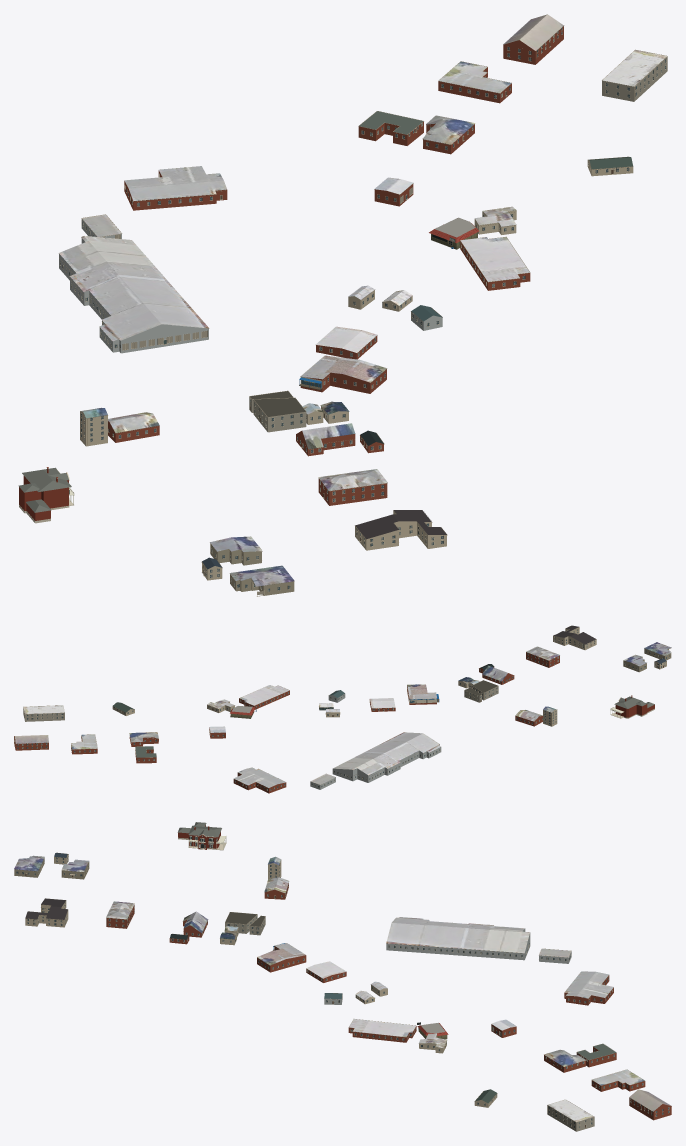
3 renders of one model, top to bottom at view 1: azimuth 30°, elevation 25°; view 2: azimuth 150°, elevation 25°; view 3: azimuth 270°, elevation 25°, orthographic. The views are drawn at different scales.
Parts seen in each view (by area): view 1: 0_-2_292661203_2, 0_-2_292661018_0, 0_-2_292661253_3, 0_-2_292661268_5, 0_-2_1150516045_73, 0_-2_625344694_31, 0_-2_292661202_1; view 2: 0_-2_292661203_2, 0_-2_292661018_0, 0_-2_292661253_3, 0_-2_292661268_5, 0_-2_1150516045_73, 0_-2_292661202_1, 0_-2_625344694_31; view 3: 0_-2_292661203_2, 0_-2_292661018_0, 0_-2_292661253_3, 0_-2_292661268_5, 0_-2_1150516045_73, 0_-2_292661202_1.
Part boxes in pixels (x1,y1,x2,y2): 0_-2_292661203_2: [59, 14, 666, 586]; 0_-2_292661018_0: [18, 26, 667, 596]; 0_-2_292661253_3: [19, 26, 563, 520]; 0_-2_292661268_5: [59, 195, 442, 387]; 0_-2_1150516045_73: [249, 56, 667, 432]; 0_-2_625344694_31: [210, 543, 294, 595]; 0_-2_292661202_1: [57, 217, 479, 504]; 0_-2_292661203_2: [15, 642, 671, 787]; 0_-2_292661018_0: [14, 625, 671, 790]; 0_-2_292661253_3: [14, 652, 654, 793]; 0_-2_292661268_5: [310, 693, 441, 789]; 0_-2_1150516045_73: [23, 686, 498, 721]; 0_-2_292661202_1: [230, 694, 623, 718]; 0_-2_625344694_31: [623, 648, 671, 672]; 0_-2_292661203_2: [14, 855, 671, 1121]; 0_-2_292661018_0: [14, 822, 669, 1128]; 0_-2_292661253_3: [106, 825, 671, 1120]; 0_-2_292661268_5: [324, 920, 571, 1033]; 0_-2_1150516045_73: [225, 915, 594, 1131]; 0_-2_292661202_1: [188, 834, 448, 1039].
Bounding box in the file's own units: 516 × 28.63 × 493.
Materials: 29 (1 with a texture image).
